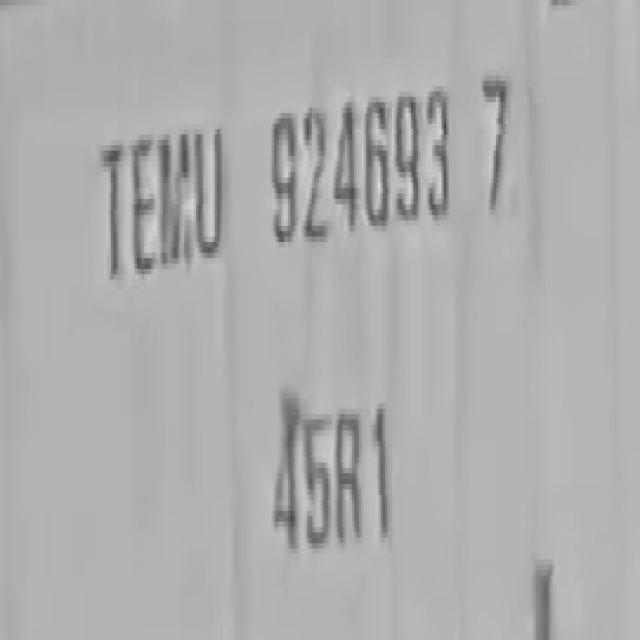dv: (464, 53, 520, 221)
owner: (86, 92, 226, 288)
serial: (262, 68, 456, 262)
size: (257, 356, 399, 572)
